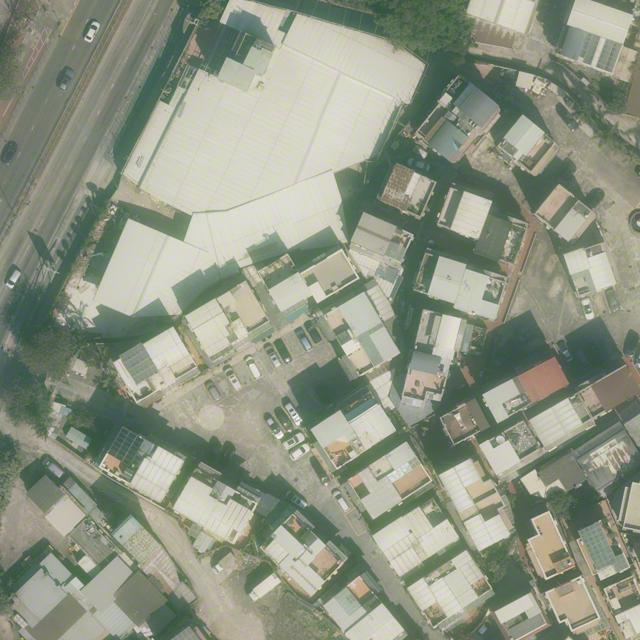panel: (119, 342, 160, 386), (107, 427, 144, 468)
